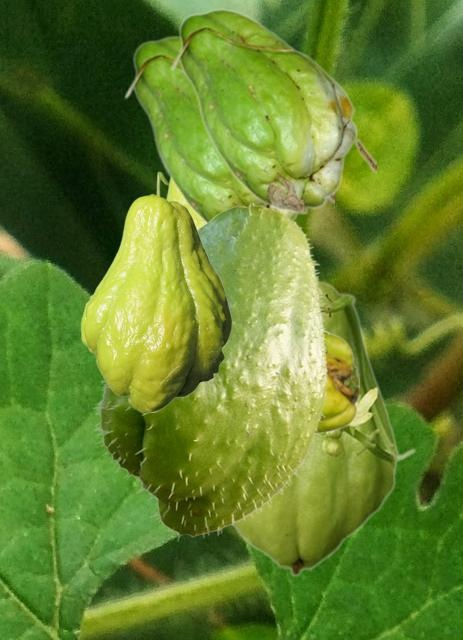sayote: (92, 203, 329, 540), (233, 280, 416, 576), (169, 8, 375, 214), (123, 35, 333, 222), (80, 171, 231, 412), (316, 332, 358, 433), (166, 178, 203, 227)
